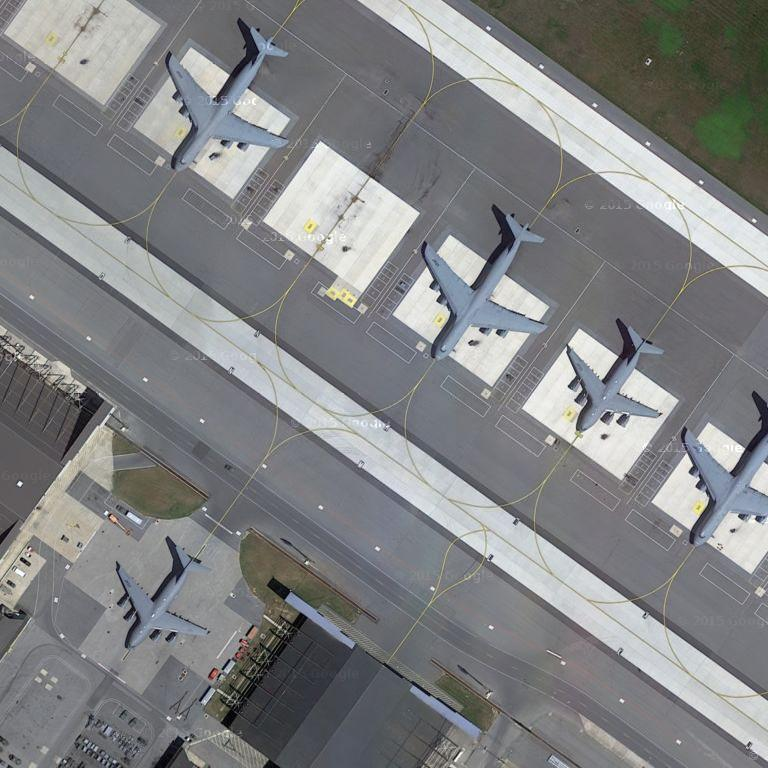C-17: (563, 317, 669, 435), (109, 540, 216, 653)
KC-135: (159, 24, 295, 178), (416, 210, 551, 364), (672, 394, 768, 552)
